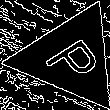P_NE: (35, 28, 105, 87)
